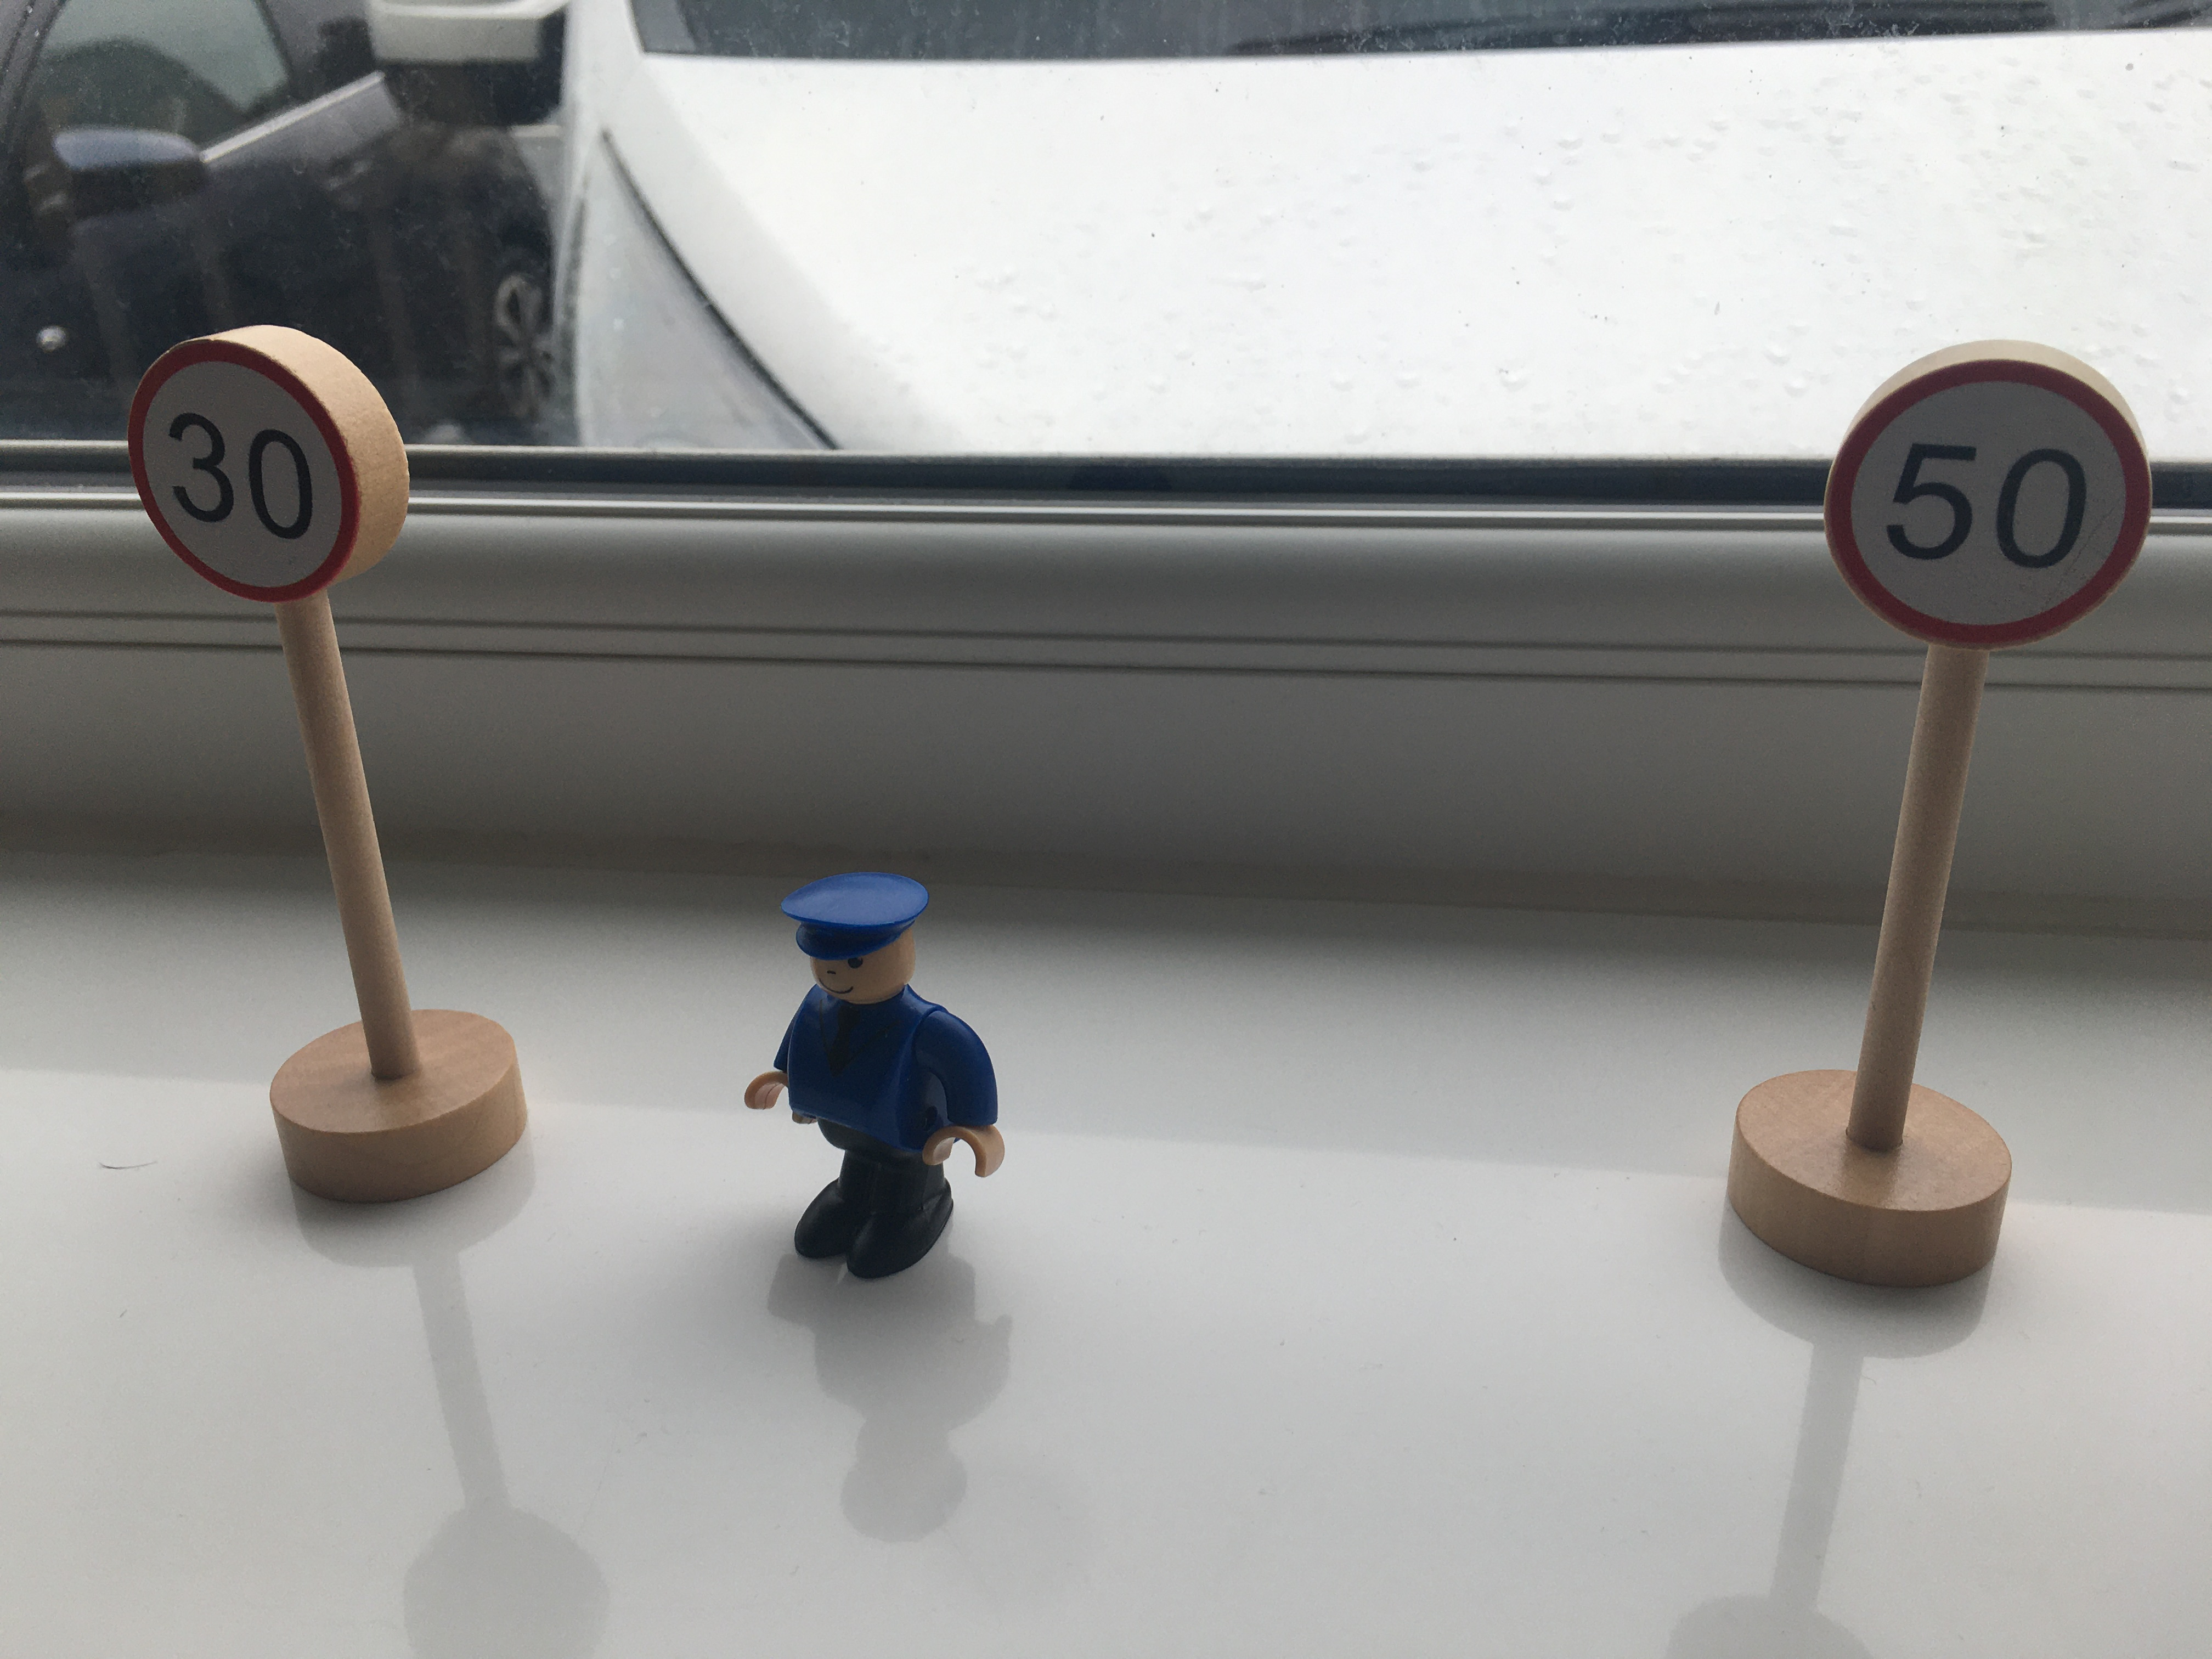Traffic_Sign_30: (129, 345, 357, 598)
Traffic_Sign_50: (1820, 353, 2151, 648)
person: (741, 857, 1019, 1294)
